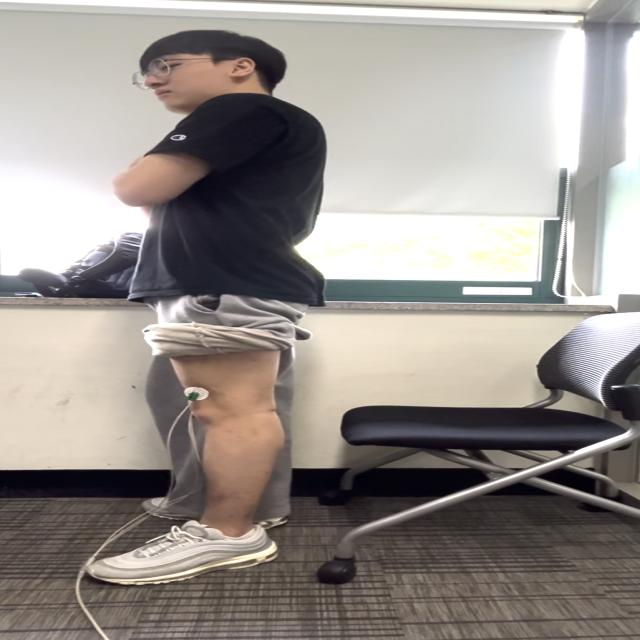stand: (96, 32, 347, 590), (133, 358, 295, 550)
